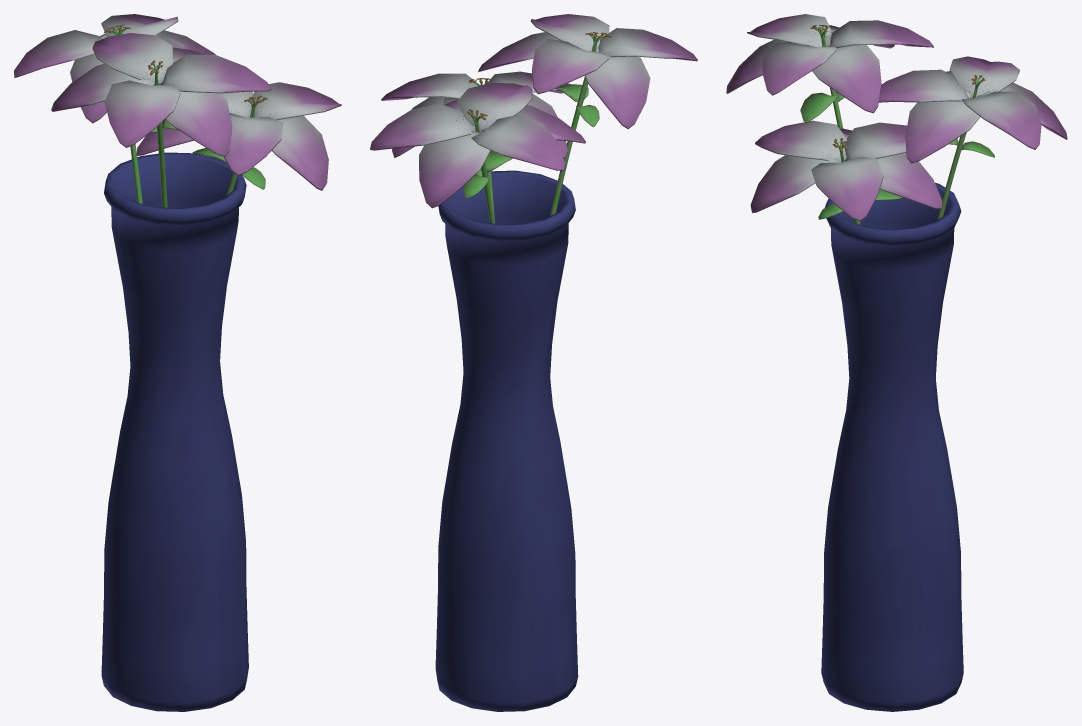
The model's file is Flowers.fbx.
3 renders of one model, left to right at view 1: azimuth 30°, elevation 25°; view 2: azimuth 150°, elevation 25°; view 3: azimuth 270°, elevation 25°, orthographic. The views are drawn at different scales.
Visible parts, largest first — view 1: Vase, Lily.001, Lily.002, Lily; view 2: Vase, Lily, Lily.001, Lily.002; view 3: Vase, Lily.002, Lily, Lily.001.
Boxes of the visible parts, <box> form: Vase: <box>101,152,248,711</box>; Lily.001: <box>51,33,271,207</box>; Lily.002: <box>136,82,341,195</box>; Lily: <box>14,14,215,203</box>; Vase: <box>435,170,578,711</box>; Lily: <box>370,82,585,223</box>; Lily.001: <box>478,14,697,215</box>; Lily.002: <box>381,71,570,221</box>; Vase: <box>821,182,963,711</box>; Lily.002: <box>750,120,942,224</box>; Lily: <box>879,56,1067,219</box>; Lily.001: <box>726,14,933,224</box>.
Bounding box in the file's own units: 103 × 236 × 116.
